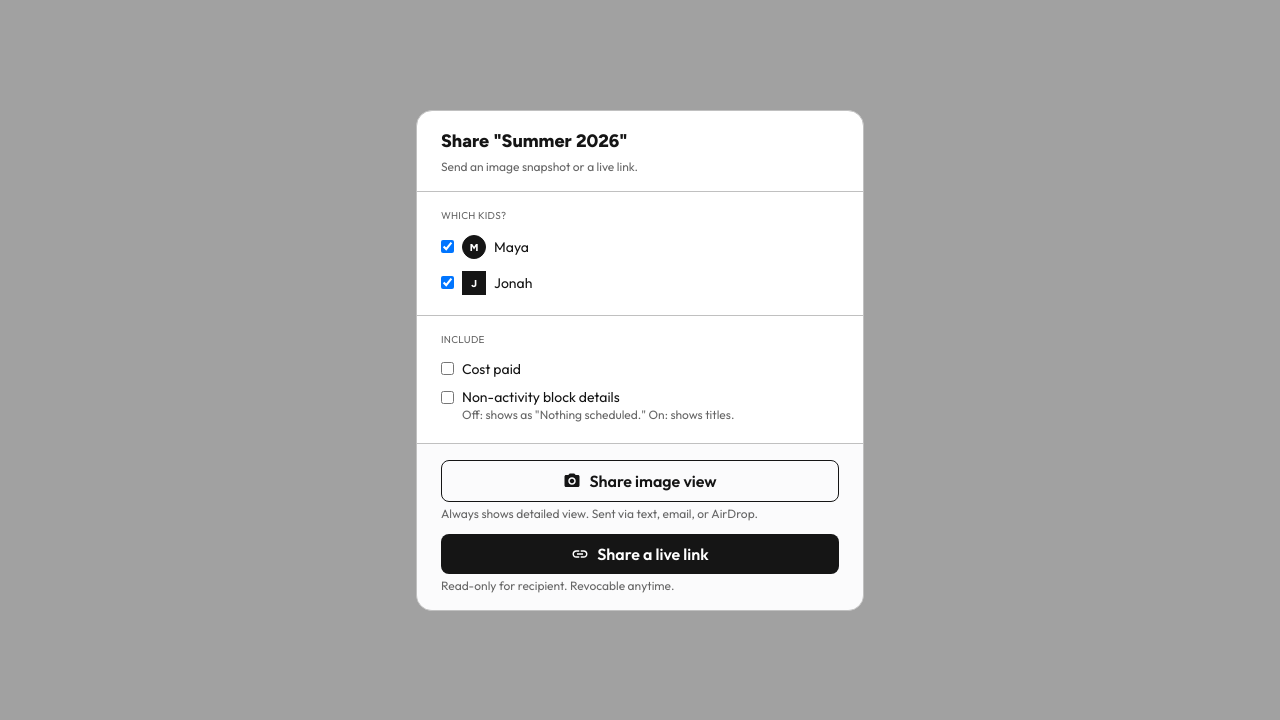
Test case: SharePlannerModal › disables 'Share a live link' when no kid is selected
Click the checkbox labelled "M Maya" at (448, 246), box 441,240 -> 454,253
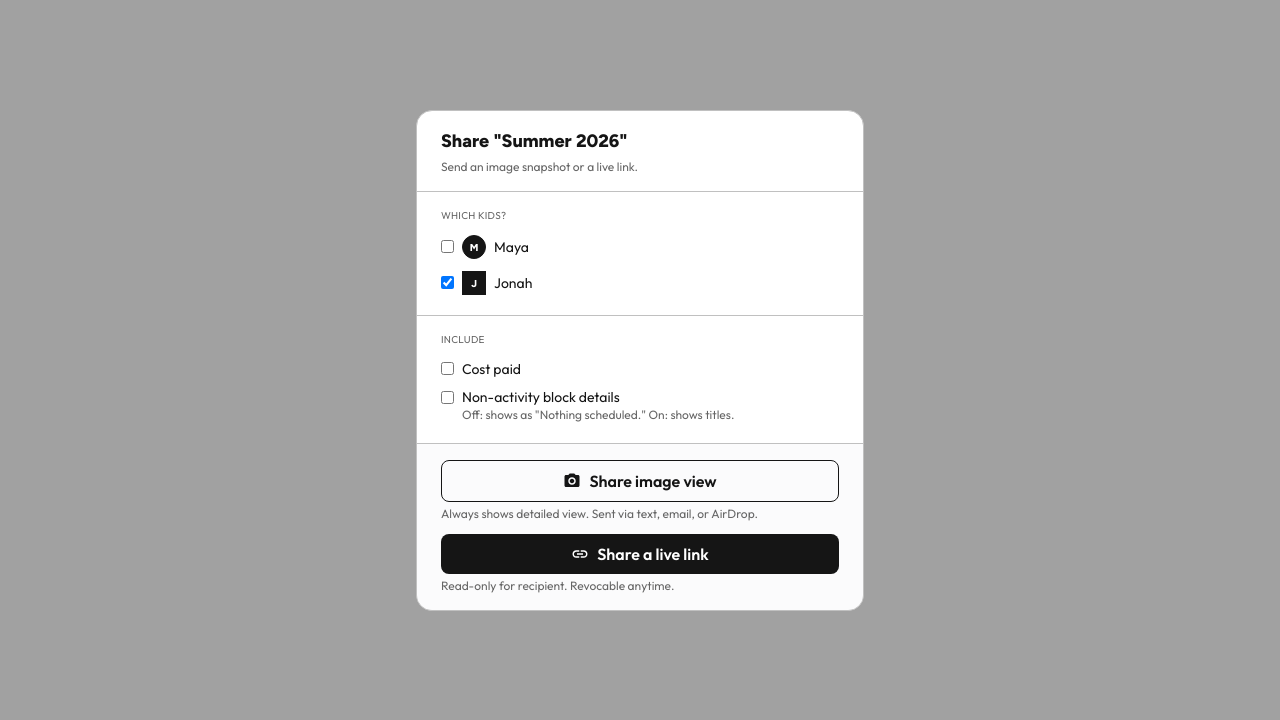
Click the checkbox labelled "J Jonah" at (448, 282), box 441,276 -> 454,289
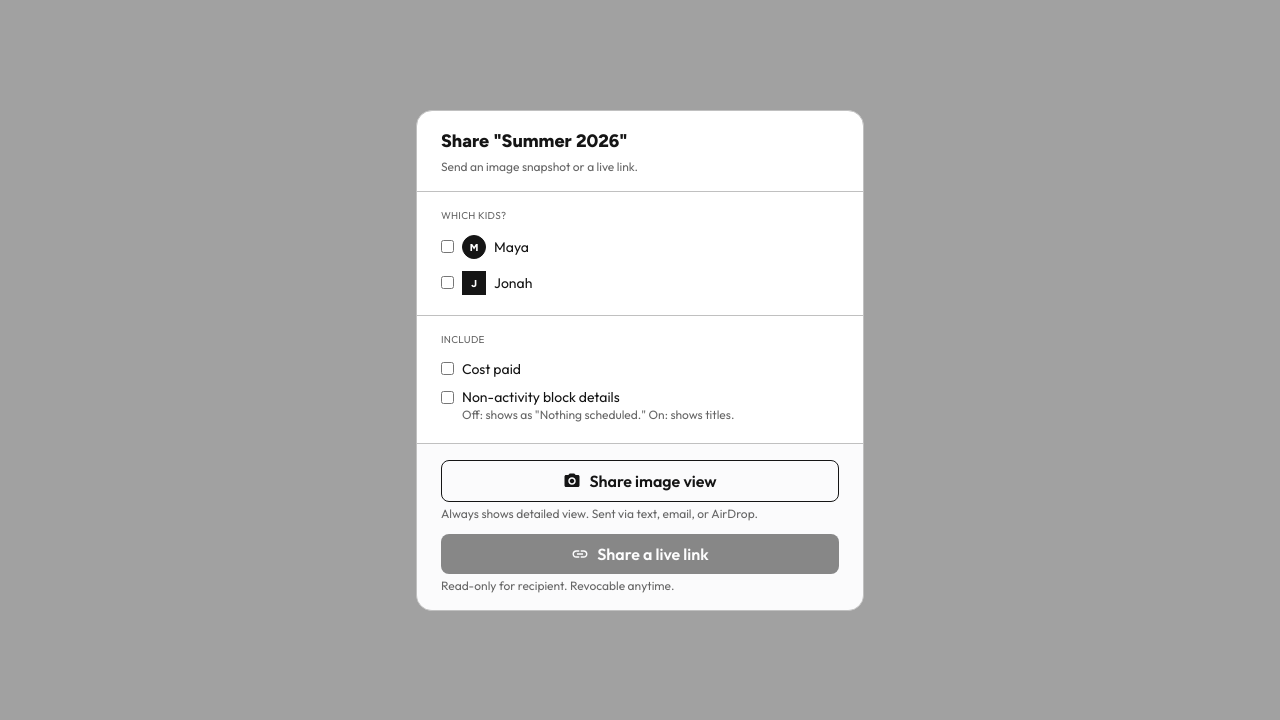
Check: the button "Share a live link" is disabled, box 441,534 -> 839,574
